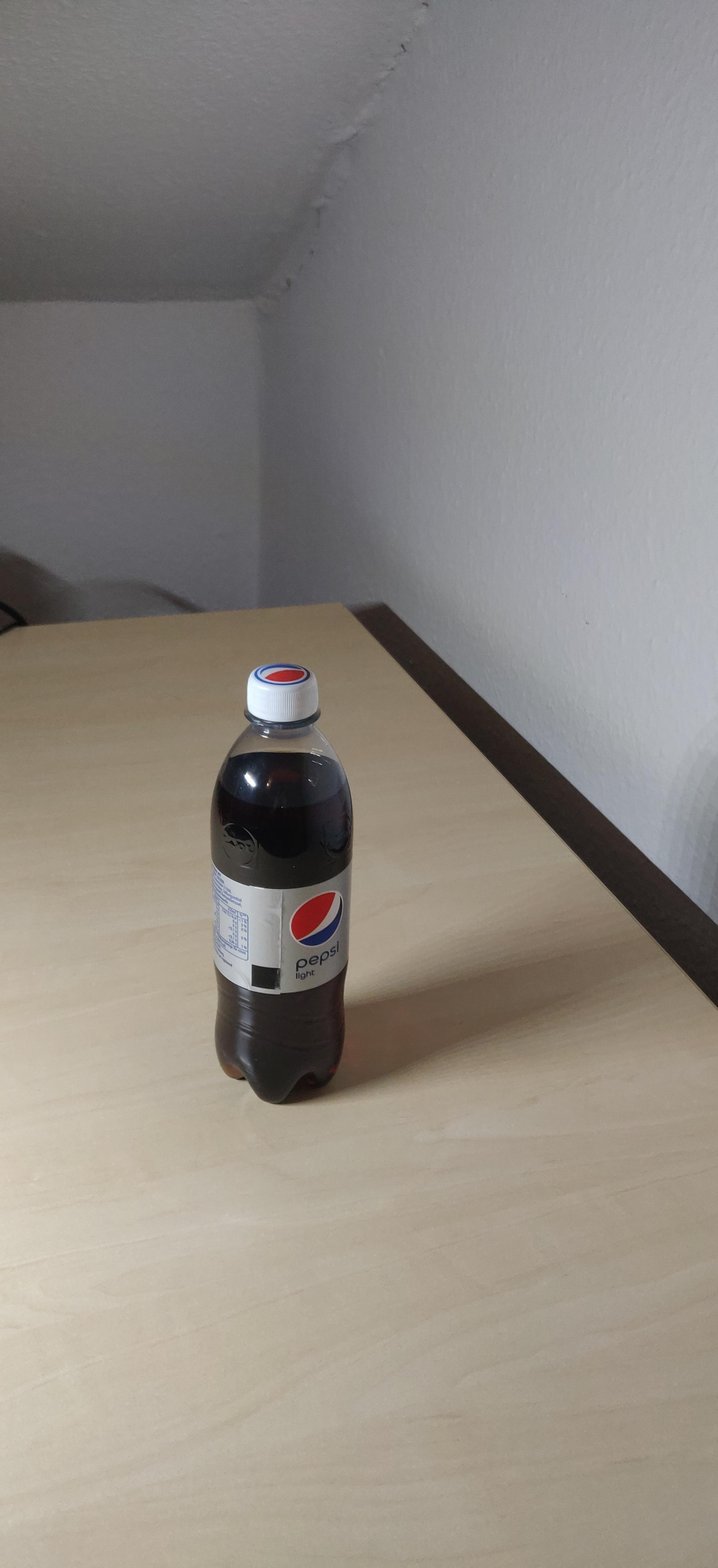bottle-plastic: (207, 664, 357, 1113)
